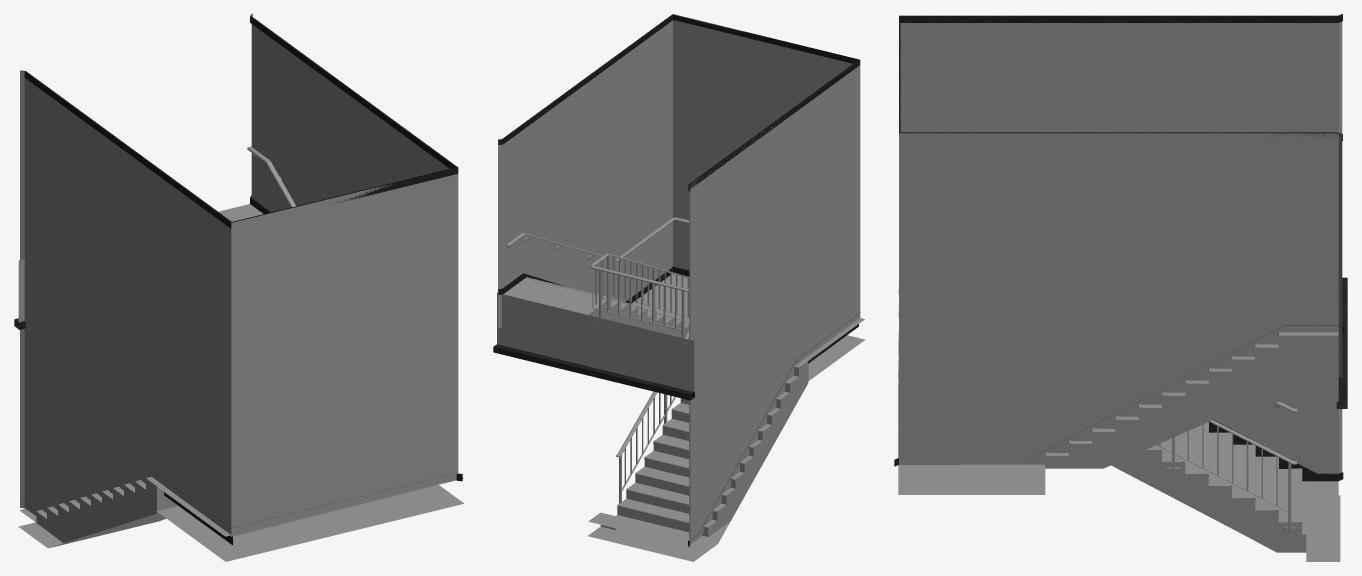
The model's file is StairsMod_Top.FBX.
3 renders of one model, left to right at view 1: azimuth 30°, elevation 25°; view 2: azimuth 150°, elevation 25°; view 3: azimuth 270°, elevation 25°, orthographic. The views are drawn at different scales.
Parts seen in each view (by area): view 1: StairsMod_Top; view 2: StairsMod_Top, Stairs_RailingInside_Top, StairsMod_StepProtectors, Stairs_RailingOutside; view 3: StairsMod_Top, Stairs_RailingInside_Top, StairsMod_StepProtectors.
Boxes of the visible parts, box(x1,y1,x2,y2) form: StairsMod_Top: box(14, 14, 464, 561); StairsMod_Top: box(493, 14, 864, 561); Stairs_RailingInside_Top: box(590, 253, 689, 503); StairsMod_StepProtectors: box(525, 277, 799, 529); Stairs_RailingOutside: box(505, 217, 852, 359); StairsMod_Top: box(894, 14, 1347, 561); Stairs_RailingInside_Top: box(1157, 420, 1297, 532); StairsMod_StepProtectors: box(1045, 332, 1302, 524).
Size of the model in its own units: 400 by 727 by 619.
